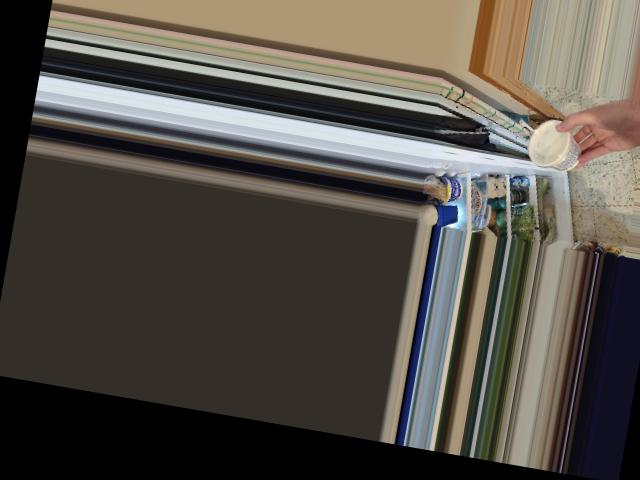cotage: (526, 120, 581, 170)
